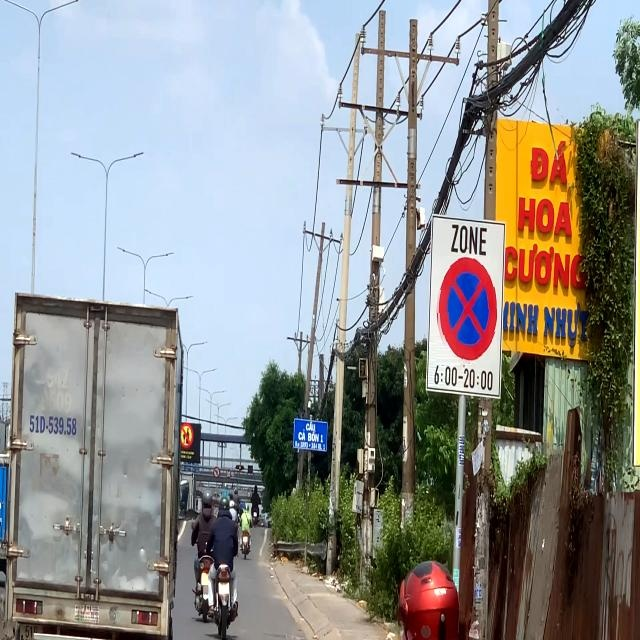bien_cam: (435, 256, 497, 366)
